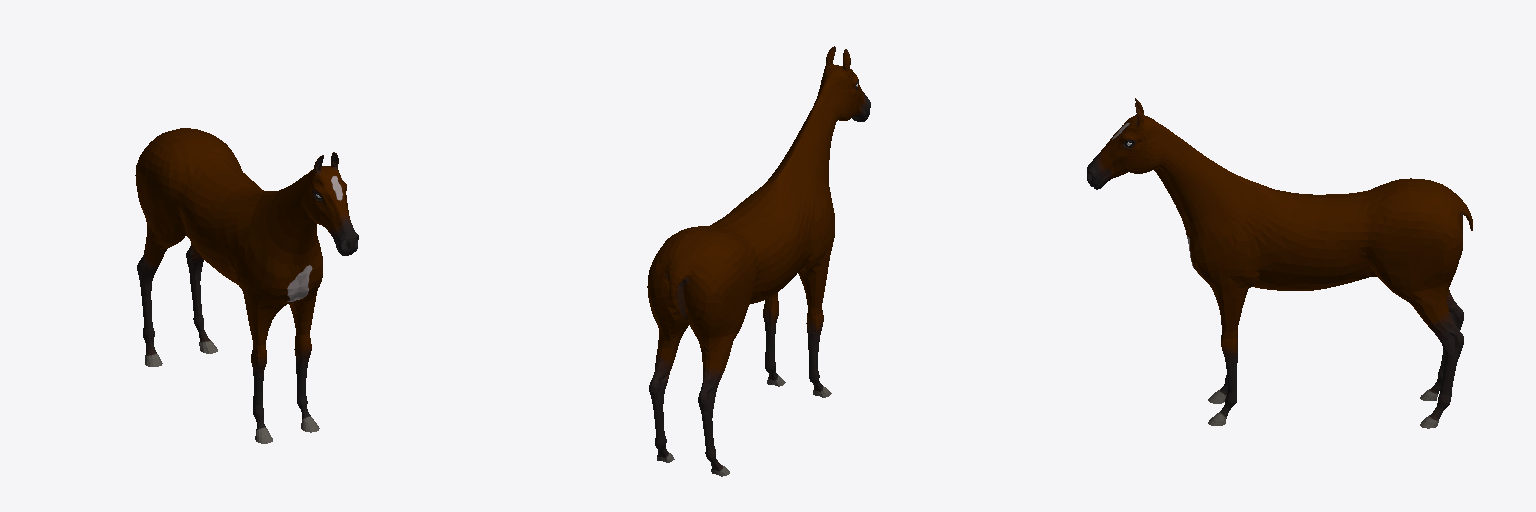
3 views of the same model, side by side, from view 1: azimuth 30°, elevation 25°; view 2: azimuth 150°, elevation 25°; view 3: azimuth 270°, elevation 25° (orthographic).
Visible parts, largest first — view 1: LP_Body_Plane.002; view 2: LP_Body_Plane.002; view 3: LP_Body_Plane.002.
Part boxes in pixels (x1,y1,x2,y2): LP_Body_Plane.002: (135,128,358,443); LP_Body_Plane.002: (647,46,870,476); LP_Body_Plane.002: (1087,98,1472,428).
Size of the model in its own units: 1.11 by 4.12 by 4.65.
2 materials, 1 textured.